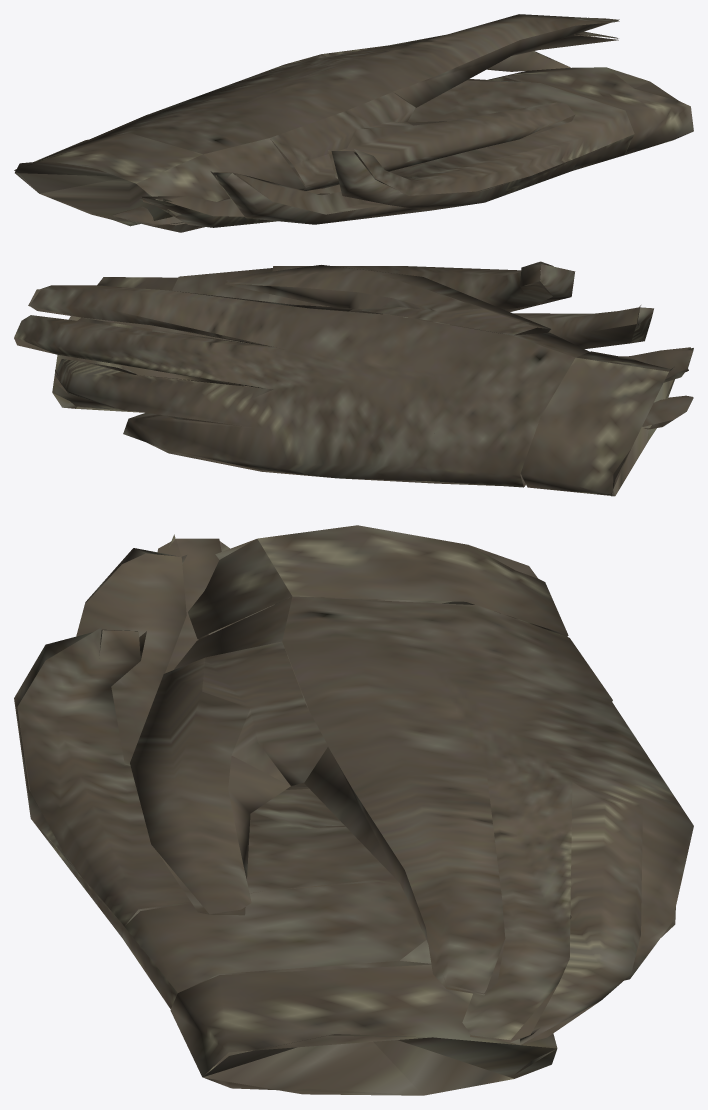
Rendered from CazadorGloves_Ground.fbx.
3 renders of one model, top to bottom at view 1: azimuth 30°, elevation 25°; view 2: azimuth 150°, elevation 25°; view 3: azimuth 270°, elevation 25°, orthographic. The views are drawn at different scales.
Visible parts, largest first — view 1: GLOVES; view 2: GLOVES; view 3: GLOVES.
Boxes of the visible parts, x1,y1,x2,y2 form: GLOVES: [14, 14, 693, 232]; GLOVES: [14, 261, 693, 496]; GLOVES: [14, 525, 693, 1095].
Bounding box in the file's own units: 0.1533 × 0.0324 × 0.0952.
